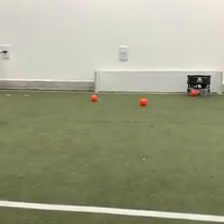ball: (139, 96, 148, 106), (90, 93, 98, 102), (190, 88, 198, 96)
goal: (93, 67, 224, 96)
robot: (185, 73, 212, 98)
